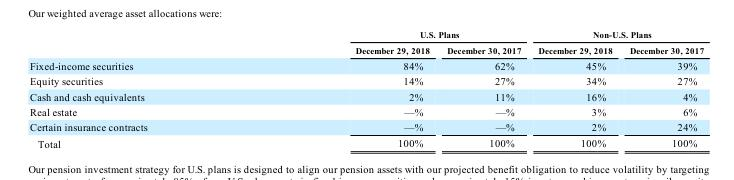table: (29, 29, 703, 149)
table column: (29, 29, 250, 149), (250, 29, 437, 149), (528, 29, 620, 149), (437, 29, 528, 149), (620, 29, 703, 149)
table column header: (29, 29, 703, 57)
table row: (29, 57, 703, 73), (29, 103, 703, 119), (29, 42, 703, 57), (29, 73, 703, 88), (29, 88, 703, 103), (29, 119, 703, 134), (29, 134, 703, 149), (29, 29, 703, 42)
table spanning cell: (250, 29, 528, 42), (528, 29, 703, 42)
